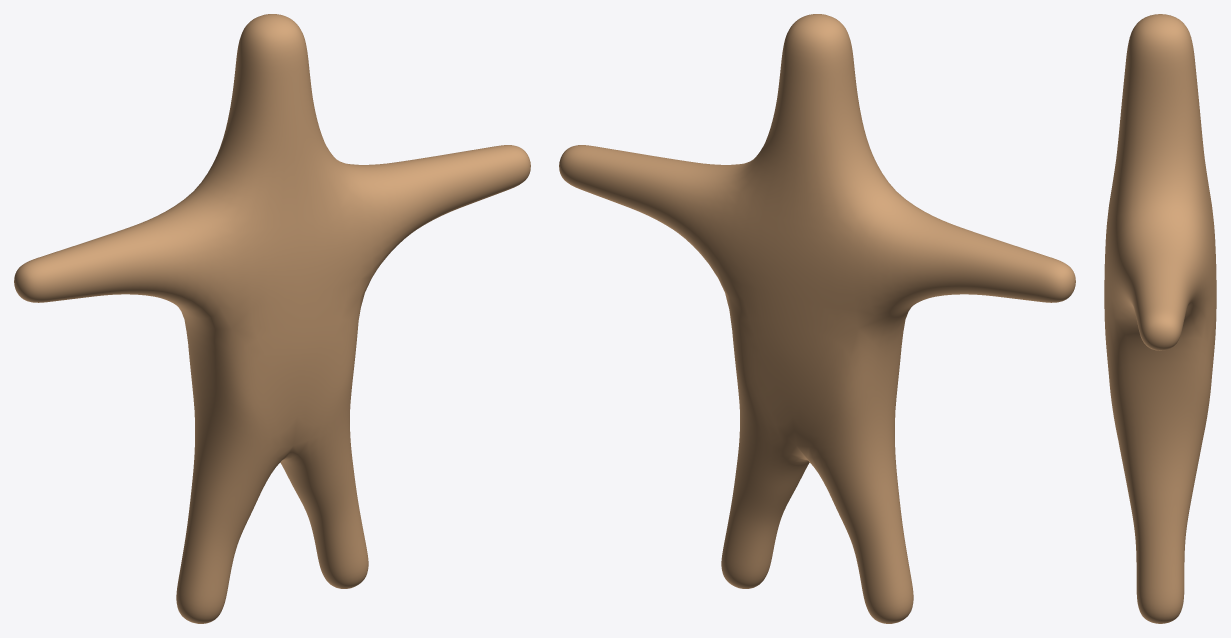
The model's file is tiny person2.fbx.
3 views of the same model, side by side, from view 1: azimuth 30°, elevation 25°; view 2: azimuth 150°, elevation 25°; view 3: azimuth 270°, elevation 25° (orthographic). The views are drawn at different scales.
Visible parts, largest first — view 1: linesayer; view 2: linesayer; view 3: linesayer.
Part boxes in pixels (x1=…): linesayer: x1=14, y1=14, x2=530, y2=623; linesayer: x1=559, y1=14, x2=1075, y2=623; linesayer: x1=1104, y1=14, x2=1216, y2=623.
Bounding box in the file's own units: 201 × 221 × 39.41.
